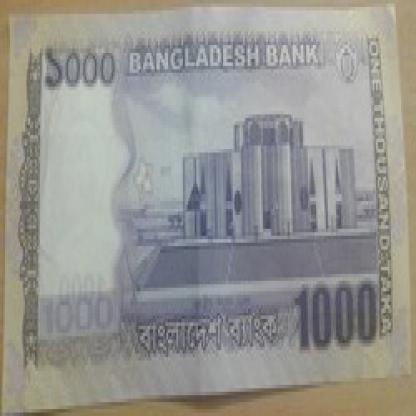One Thousand taka: (291, 281, 386, 357), (42, 48, 118, 94)
